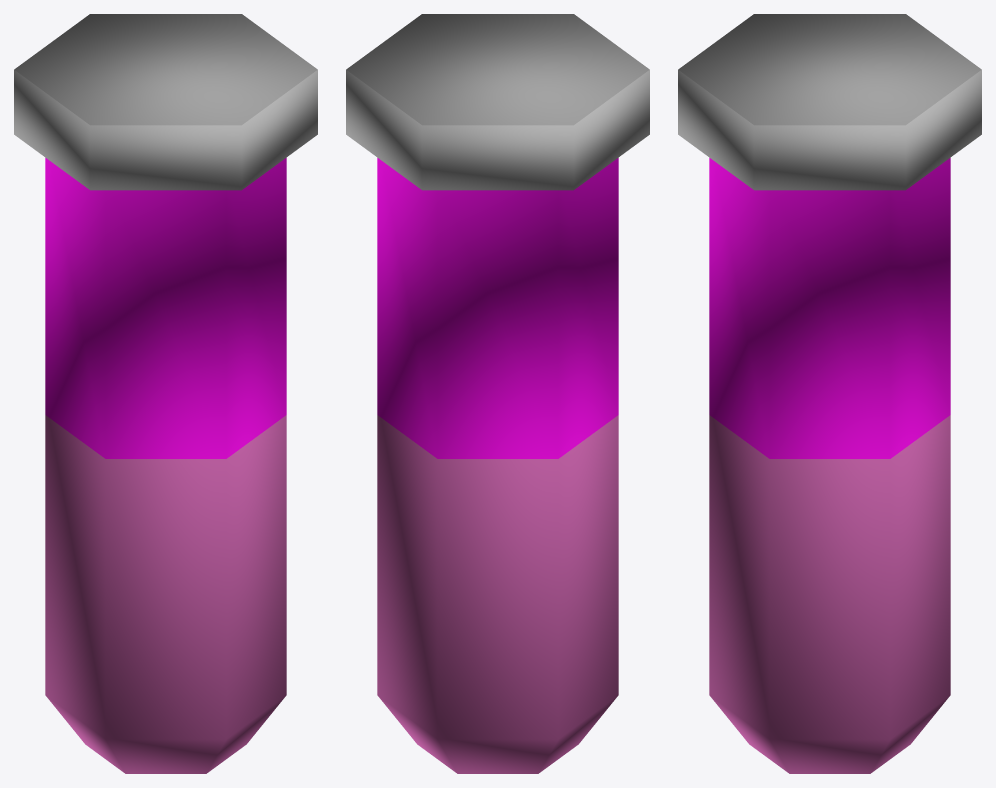
The model's file is Coin Extract VialPink.fbx.
The picture shows the model from 3 angles, left to right: view 1: azimuth 30°, elevation 25°; view 2: azimuth 150°, elevation 25°; view 3: azimuth 270°, elevation 25°; orthographic projection.
Visible parts, largest first — view 1: Cylinder; view 2: Cylinder; view 3: Cylinder.
Boxes of the visible parts, left/top/right/bottom form: Cylinder: left=14, top=14, right=317, bottom=773; Cylinder: left=346, top=14, right=649, bottom=773; Cylinder: left=678, top=14, right=981, bottom=773.
Bounding box in the file's own units: 218 × 617 × 252.
